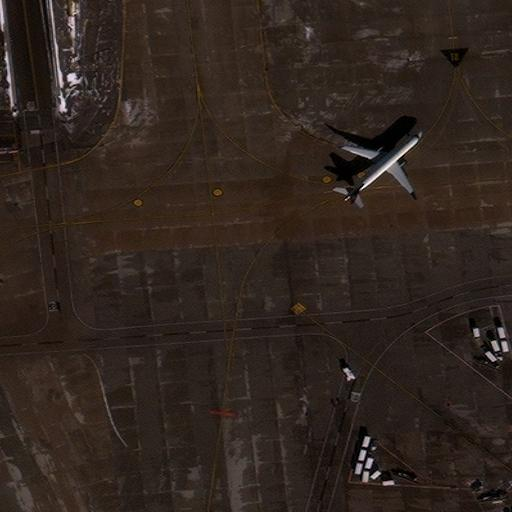Medium Civil Transport: (345, 133, 420, 200)
